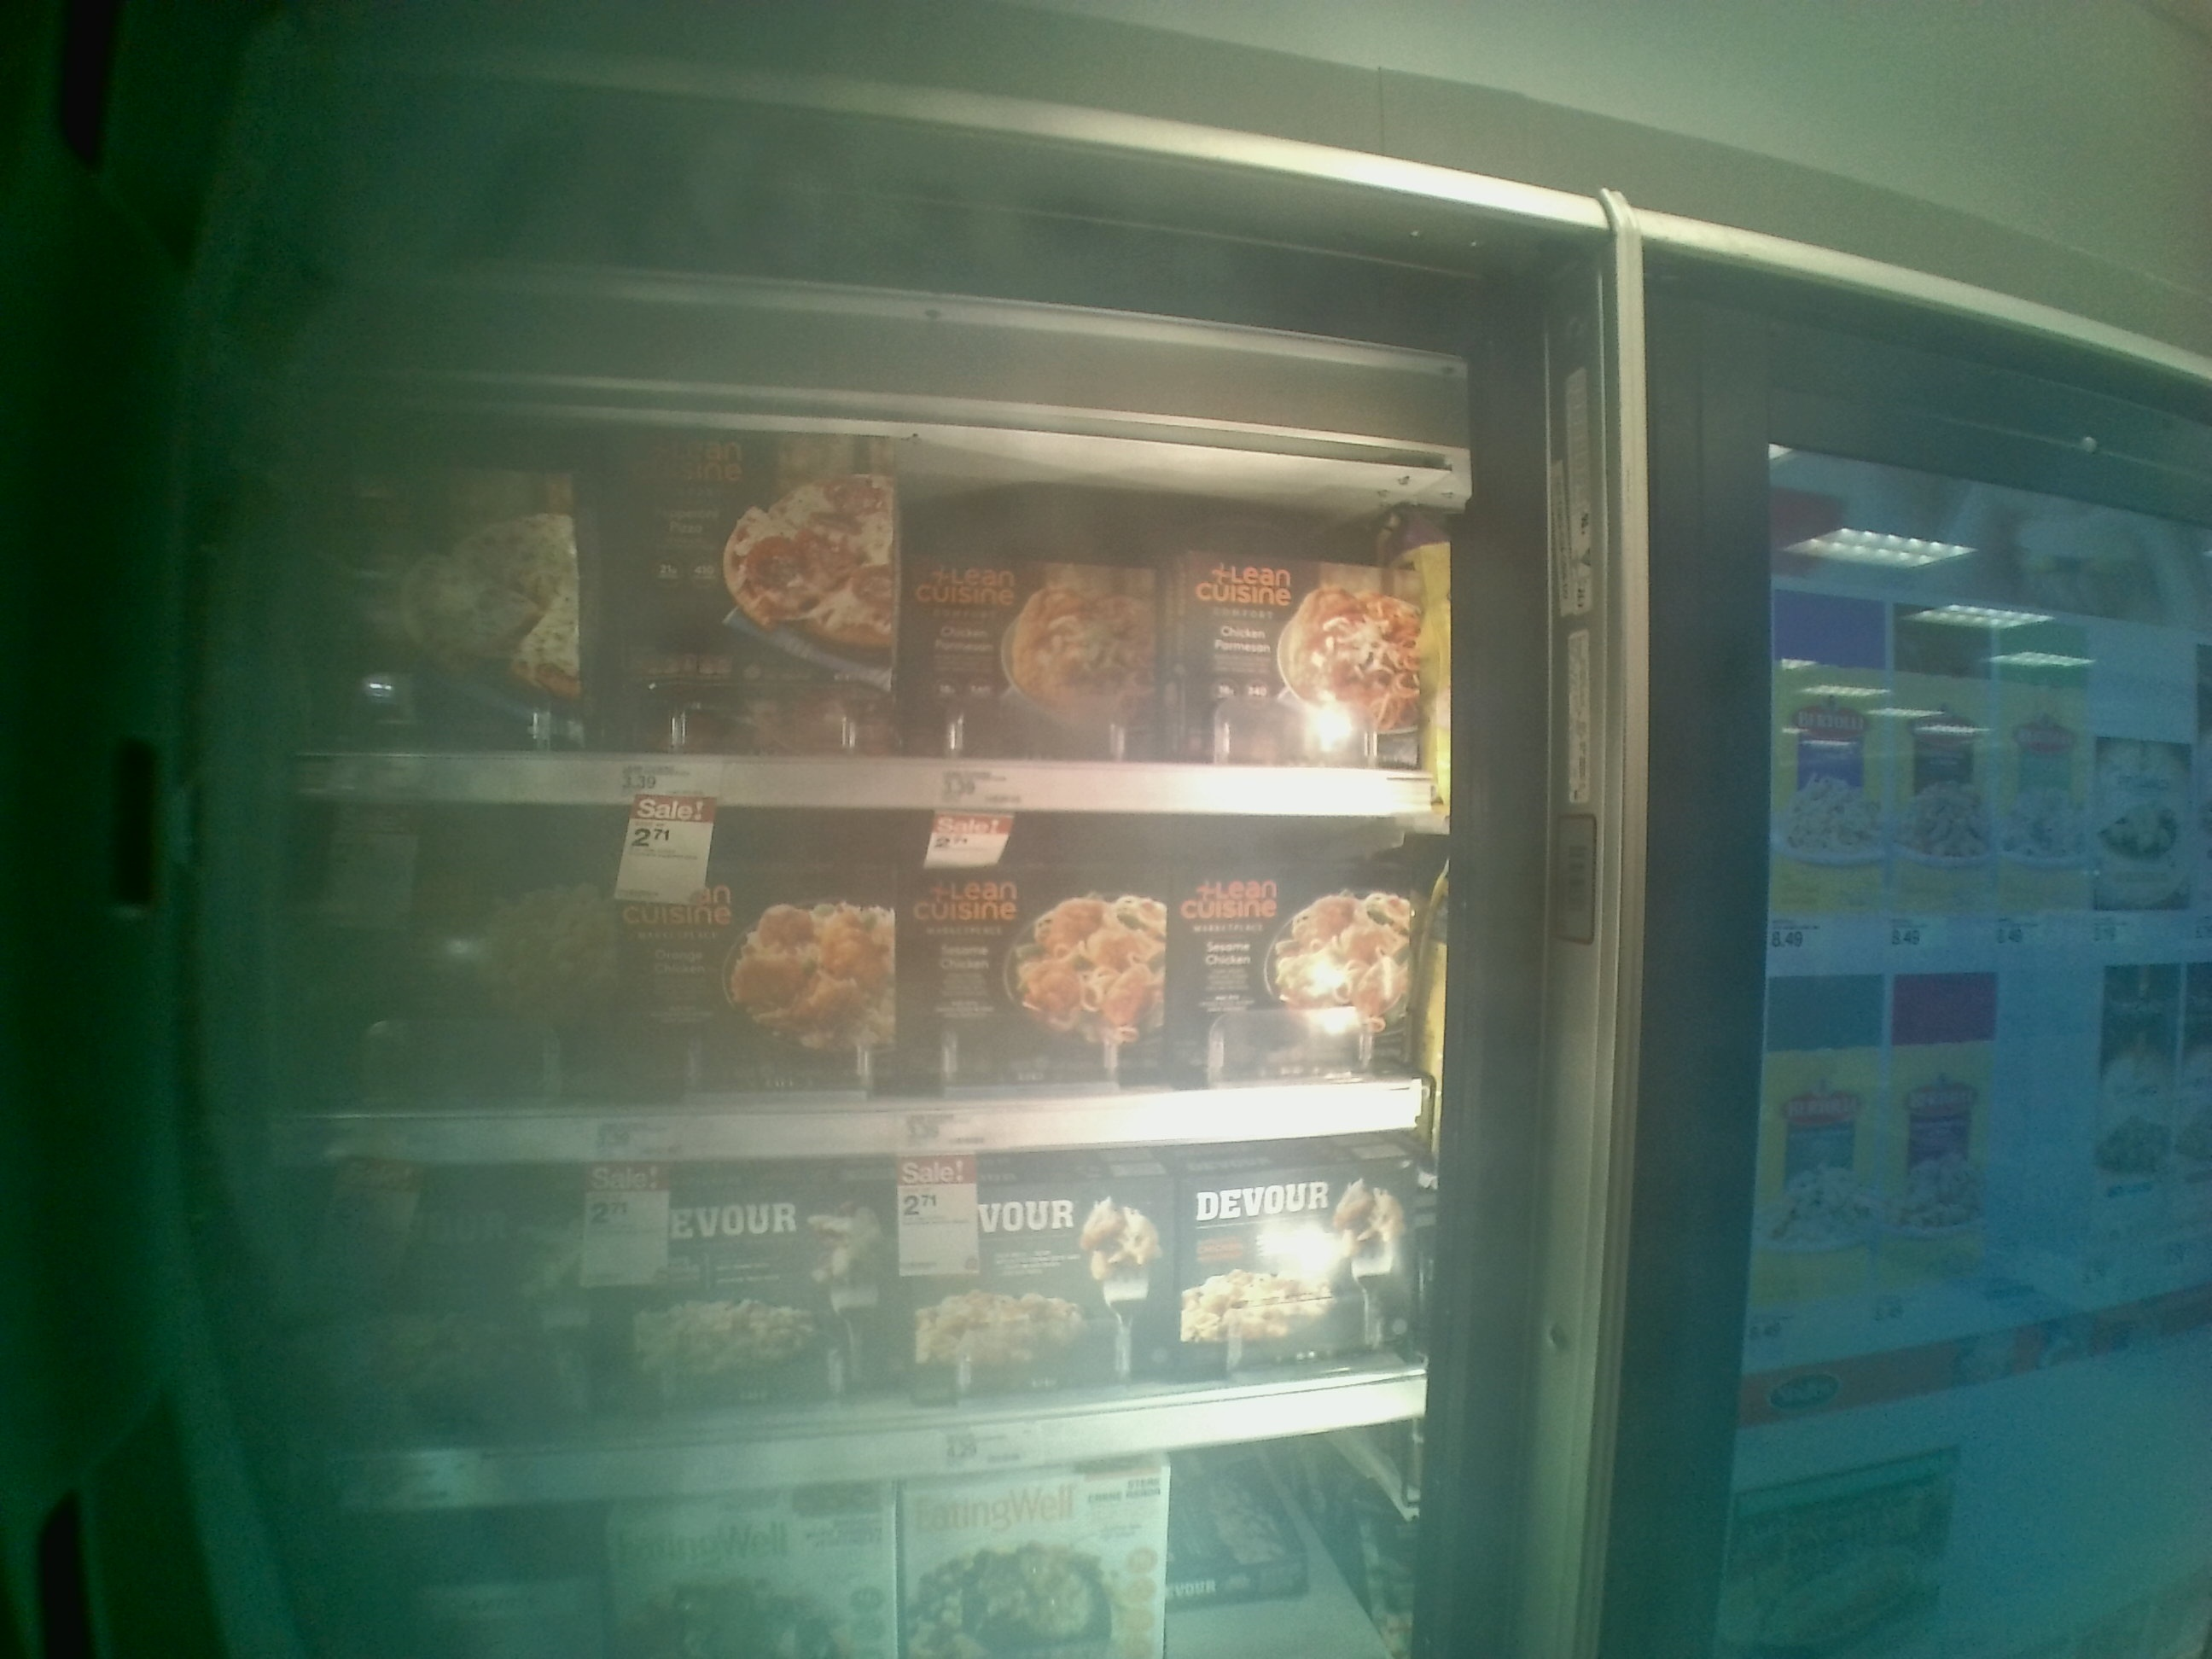shelf: (240, 369, 1439, 824), (296, 1127, 1435, 1521), (254, 793, 1444, 1166)
